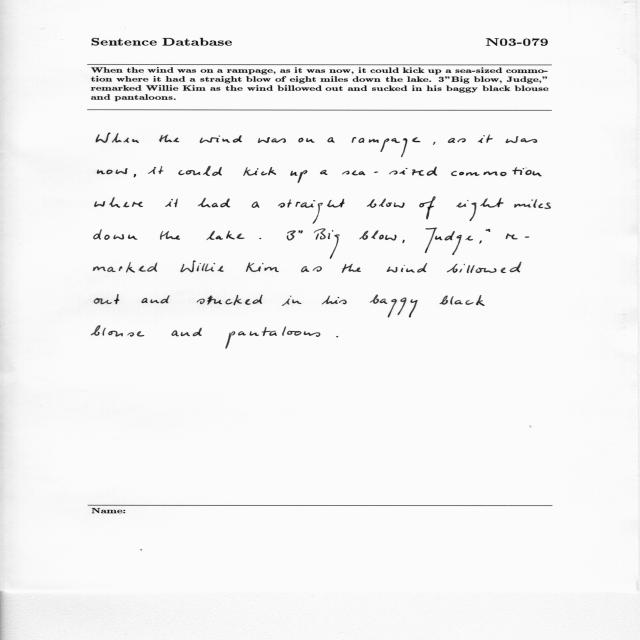word: (225, 327, 321, 349), (278, 199, 345, 224), (352, 137, 421, 157), (425, 228, 473, 255), (456, 198, 504, 221), (370, 295, 418, 318), (342, 167, 437, 176), (447, 262, 522, 273), (451, 167, 542, 176), (314, 228, 340, 259), (93, 262, 158, 273), (197, 295, 263, 305), (91, 326, 144, 337), (95, 197, 143, 208), (440, 295, 485, 306), (94, 229, 138, 240), (180, 261, 224, 272), (178, 166, 222, 176), (96, 133, 139, 143), (387, 263, 428, 273), (360, 230, 397, 241), (419, 197, 436, 220), (367, 198, 404, 208), (514, 199, 551, 209), (207, 231, 245, 240), (200, 135, 242, 143), (246, 262, 279, 272), (198, 198, 230, 208), (244, 167, 277, 176), (171, 328, 202, 337), (141, 295, 170, 304), (94, 295, 120, 305), (322, 296, 347, 305), (291, 170, 308, 183), (506, 136, 537, 143), (282, 296, 301, 306), (286, 230, 303, 241), (97, 169, 128, 175), (160, 231, 180, 240), (342, 264, 361, 273), (258, 137, 286, 143), (159, 135, 179, 143), (506, 234, 530, 240), (301, 266, 322, 272), (478, 135, 493, 143), (148, 166, 163, 174), (165, 199, 178, 208), (448, 138, 466, 143), (299, 138, 315, 143), (252, 201, 259, 208), (327, 137, 335, 143), (320, 170, 327, 175), (479, 240, 482, 244), (486, 229, 490, 232), (433, 142, 435, 145), (134, 174, 136, 177), (403, 240, 405, 243), (259, 238, 261, 239), (336, 336, 338, 337)
